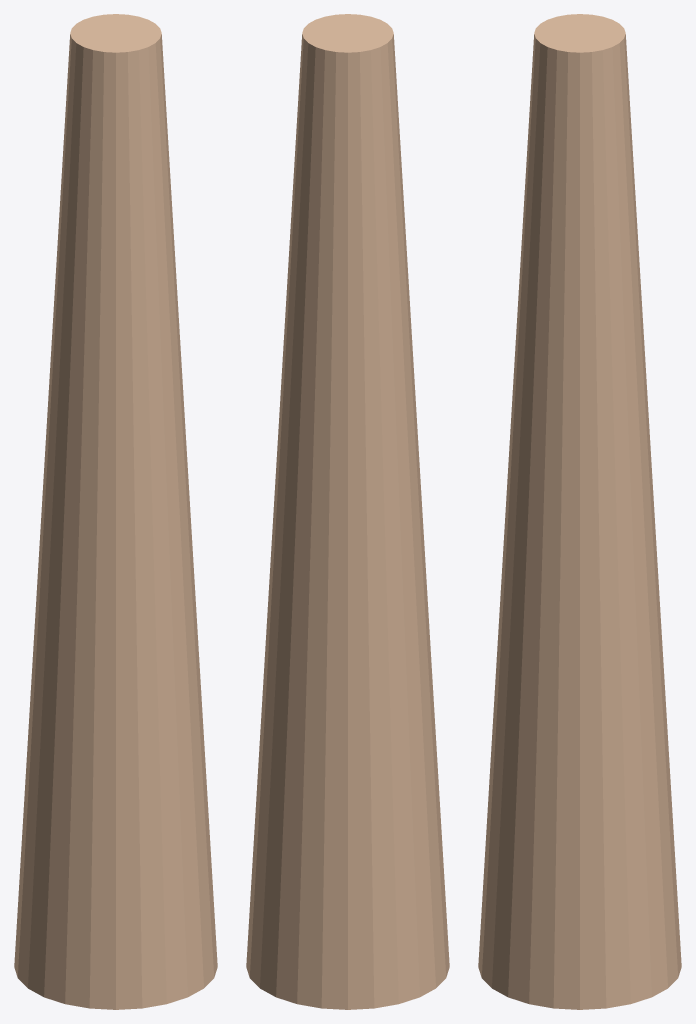
File: place-qutb-minar.glb
3 views of the same model, side by side, from view 1: azimuth 30°, elevation 25°; view 2: azimuth 150°, elevation 25°; view 3: azimuth 270°, elevation 25° (orthographic).
Parts seen in each view (by area): view 1: place-qutb-minar; view 2: place-qutb-minar; view 3: place-qutb-minar.
Part boxes in pixels (x1,y1,x2,y2): place-qutb-minar: (14, 14, 217, 1009); place-qutb-minar: (246, 14, 449, 1009); place-qutb-minar: (478, 14, 681, 1009).
Size of the model in its own units: 14.32 by 72.5 by 14.32.
